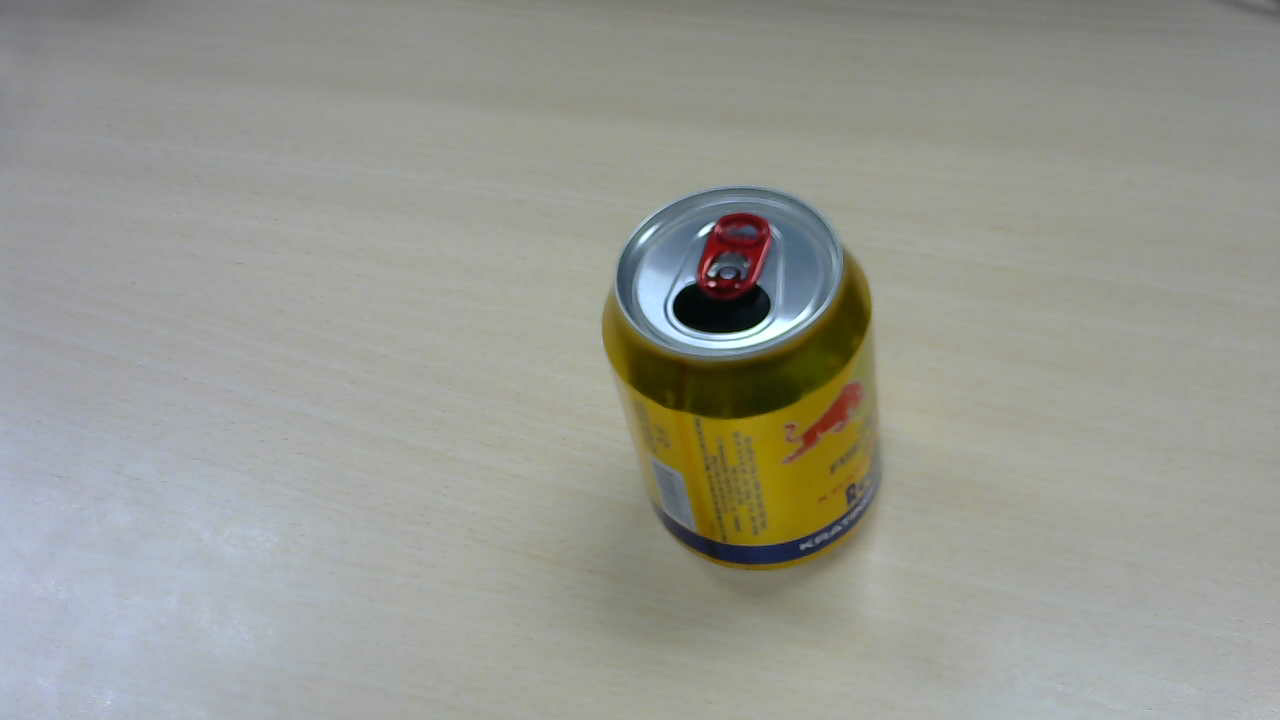Red_Bull: (604, 190, 889, 572)
